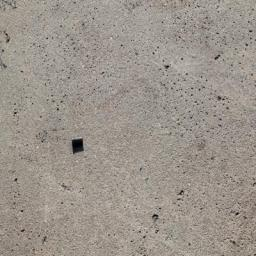FOD: (71, 137, 89, 157)
